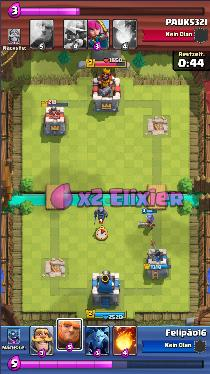ally_musketeer: (138, 213, 156, 229)
enemy_mini_pekka: (93, 206, 108, 223)
